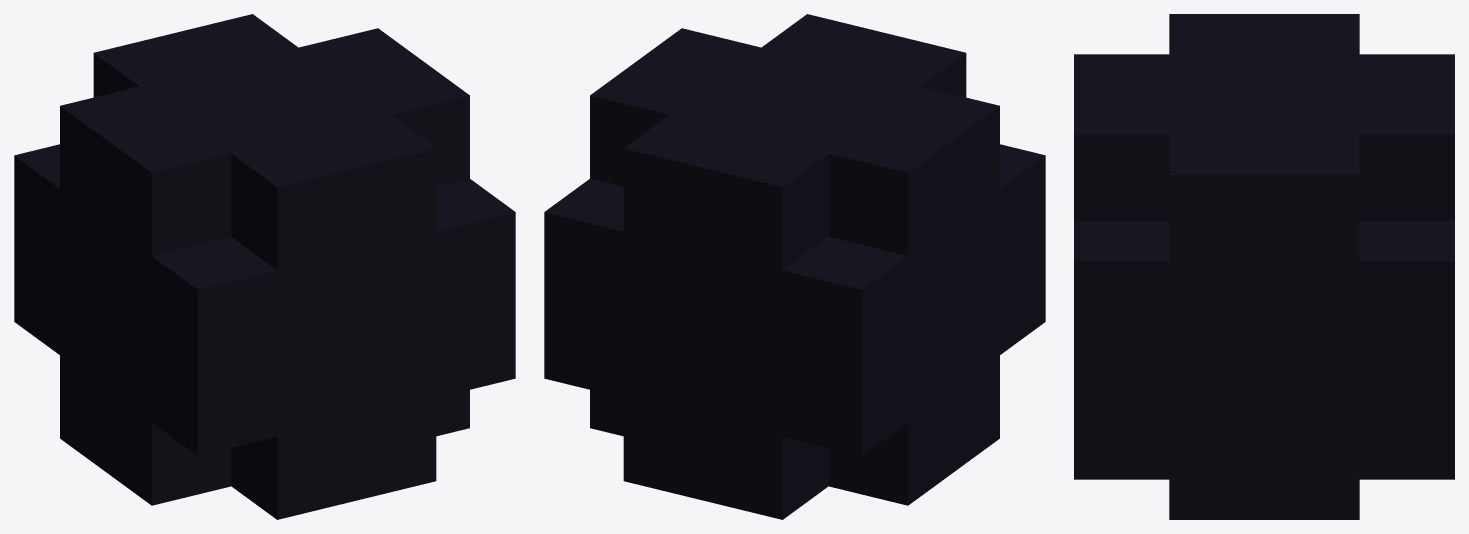
Rendered from Bullet.obj.
The picture shows the model from 3 angles, left to right: view 1: azimuth 30°, elevation 25°; view 2: azimuth 150°, elevation 25°; view 3: azimuth 270°, elevation 25°; orthographic projection. The views are drawn at different scales.
Size of the model in its own units: 0.4 by 0.4 by 0.4.
Materials: 1 (1 with a texture image).
